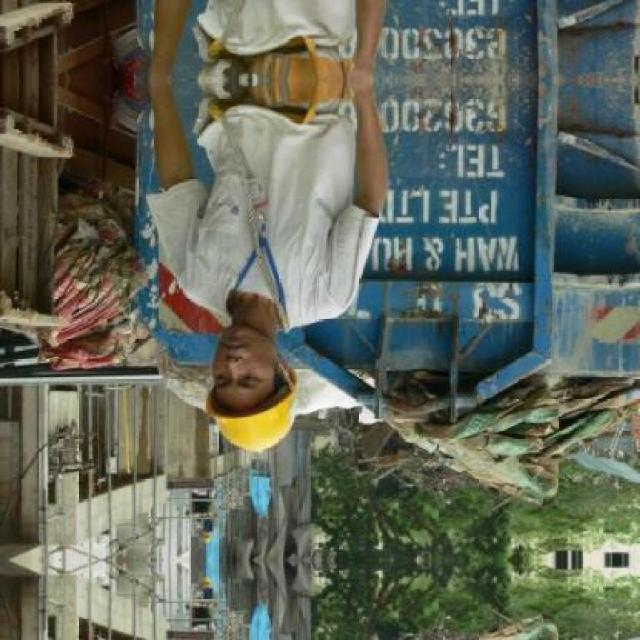safetyhelmet: (198, 328, 303, 455)
